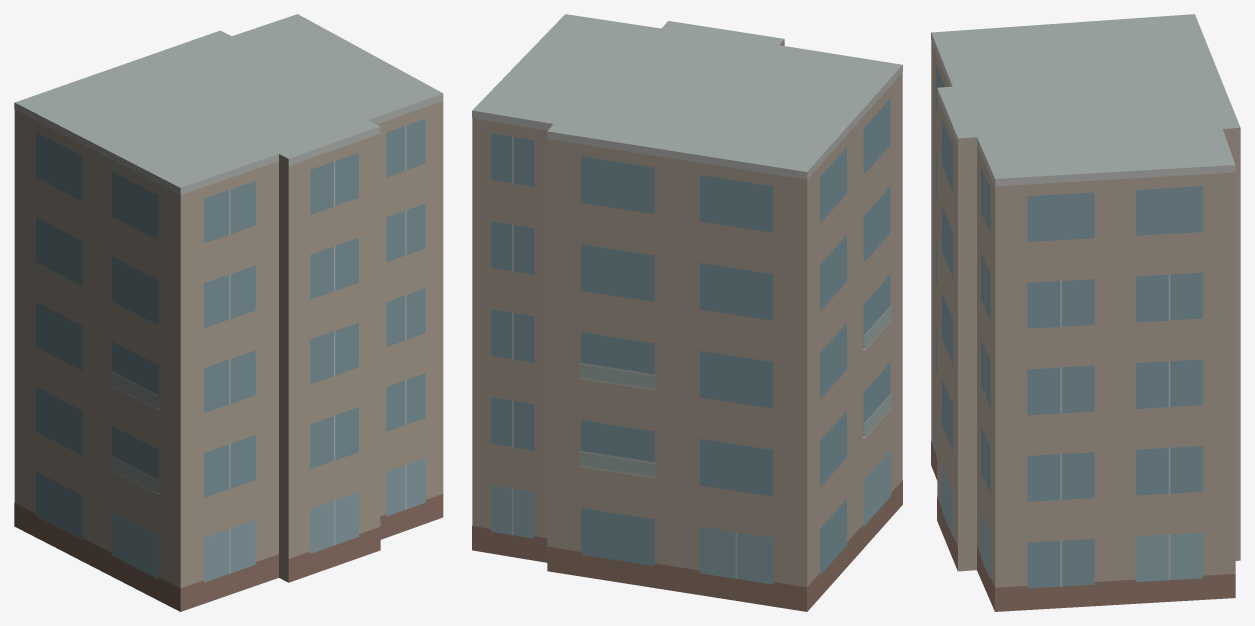
File: survey-upis-32744712.glb
The picture shows the model from 3 angles, left to right: view 1: azimuth 30°, elevation 25°; view 2: azimuth 150°, elevation 25°; view 3: azimuth 270°, elevation 25°; orthographic projection. The views are drawn at different scales.
Parts seen in each view (by area): view 1: survey-upis-32744712.tmp; view 2: survey-upis-32744712.tmp; view 3: survey-upis-32744712.tmp.
Boxes of the visible parts, x1,y1,x2,y2 form: survey-upis-32744712.tmp: [14, 14, 443, 611]; survey-upis-32744712.tmp: [472, 14, 902, 611]; survey-upis-32744712.tmp: [931, 14, 1240, 611].
Size of the model in its own units: 11.61 by 14.2 by 9.21.
